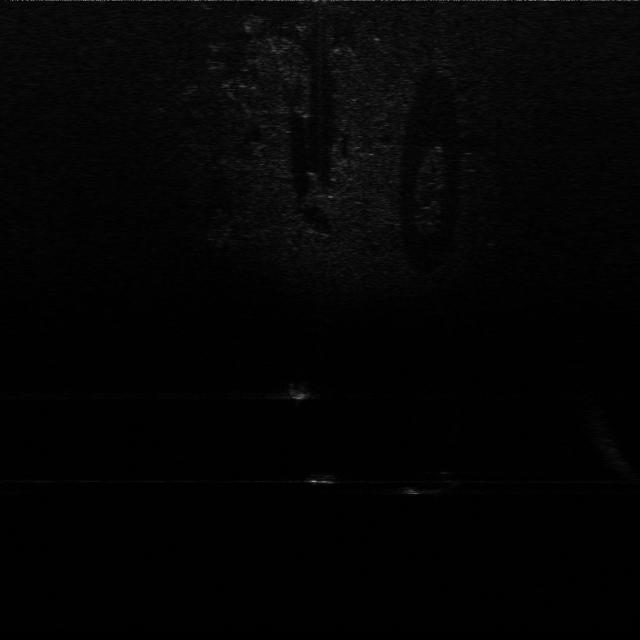cube: (292, 469, 351, 490)
square cage: (276, 381, 322, 403)
tyre: (402, 468, 462, 496)
